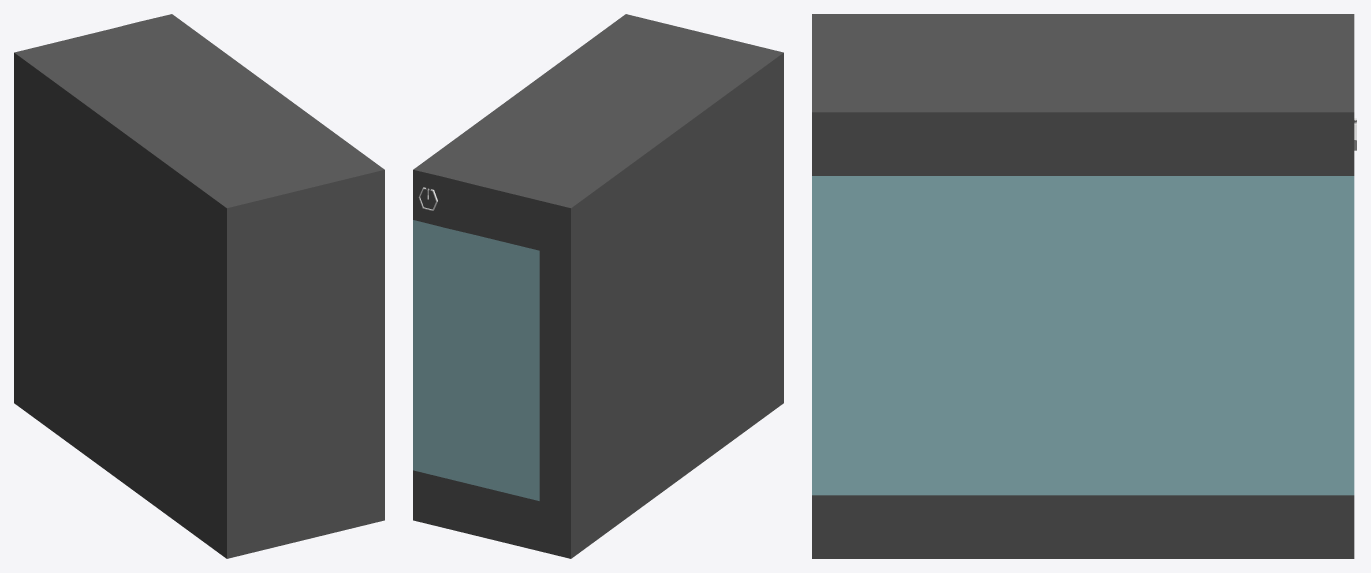
File: 프론트엔터 4조 본체.glb
The picture shows the model from 3 angles, left to right: view 1: azimuth 30°, elevation 25°; view 2: azimuth 150°, elevation 25°; view 3: azimuth 270°, elevation 25°; orthographic projection. The views are drawn at different scales.
Visible parts, largest first — view 1: Box001; view 2: Box001, Object002; view 3: Object002, Box001.
Boxes of the visible parts, bbox=[...] form: Box001: bbox=[14, 14, 384, 558]; Box001: bbox=[413, 14, 783, 558]; Object002: bbox=[413, 220, 539, 500]; Object002: bbox=[812, 176, 1354, 495]; Box001: bbox=[812, 14, 1356, 558].
Size of the model in its own units: 0.9495 by 2.02 by 2.23.
